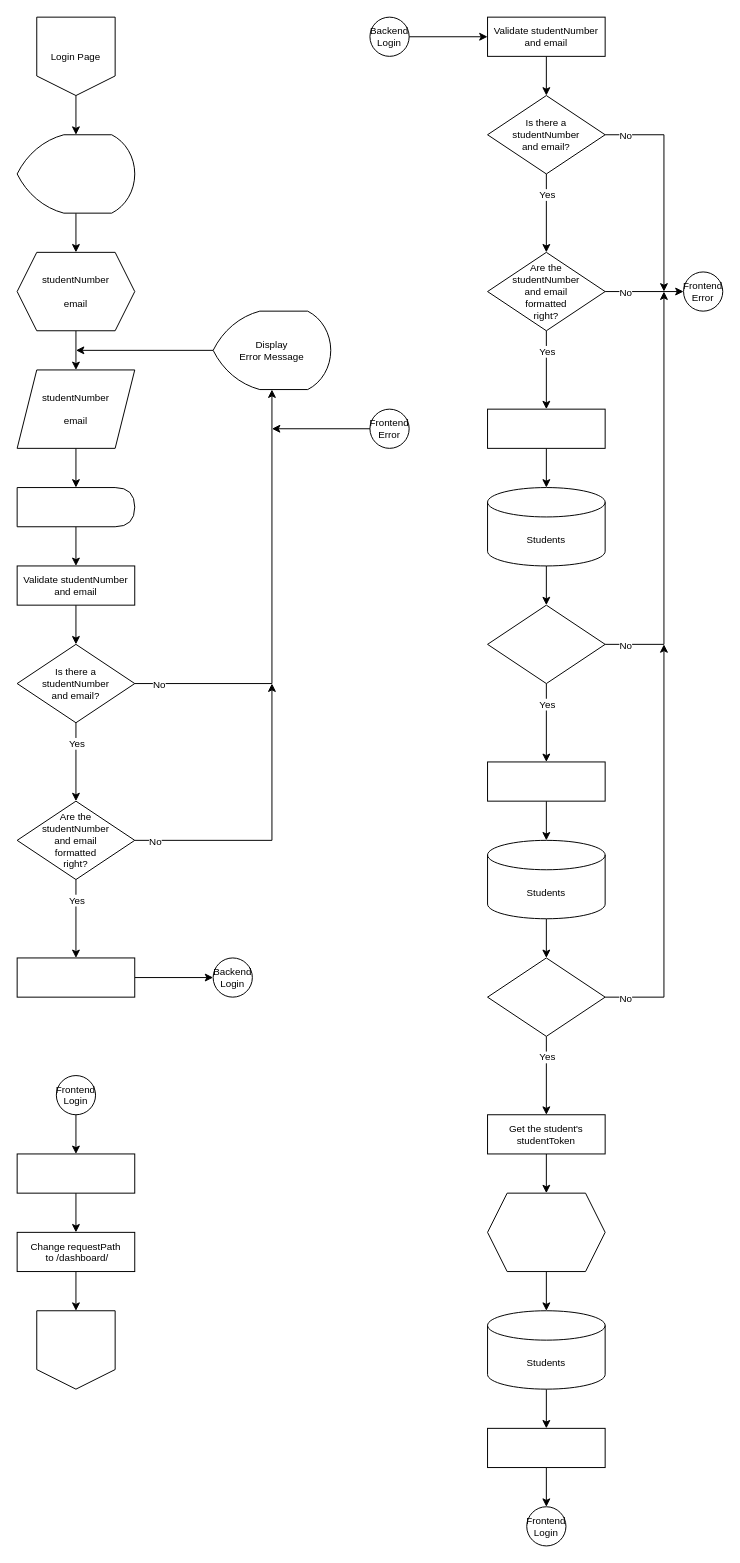
Some shapes in this 740 by 1563 pixel diagram are drawn without their labels. The centre of each missing label's shape, as x and y in pixels:
Are the input email and the student email the same?: point (546, 996)
Check if the input email and the student email are the same: point (546, 781)
Check the database for the studentNumber: point (546, 428)
Display Login Page: point (75, 173)
Does the studentNumber exists in the database?: point (546, 644)
Reroute: point (75, 1349)
Save the studentToken to the browser cookies: point (75, 1173)
Send studentNumber and email to the server: point (75, 977)
Send the studentToken back to the frontend: point (546, 1447)
studentToken: point (546, 1232)
Wait for student to press "Login": point (75, 507)
